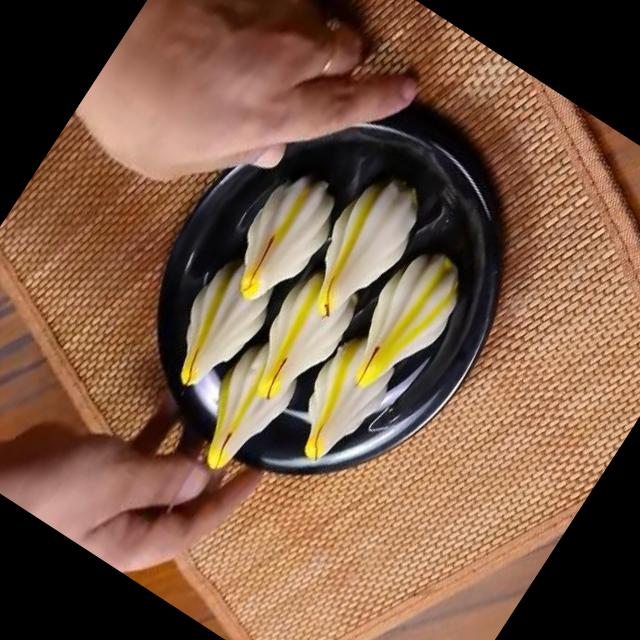modak: (276, 150, 446, 346), (200, 130, 367, 320), (142, 228, 299, 410), (230, 237, 383, 422), (336, 228, 486, 406), (176, 326, 316, 486), (273, 343, 396, 483)
